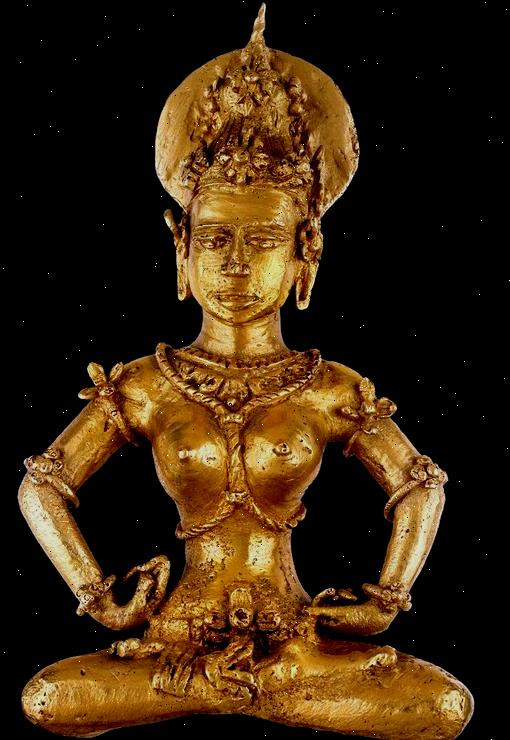golden_tara_of_agusan: (13, 0, 481, 740)
